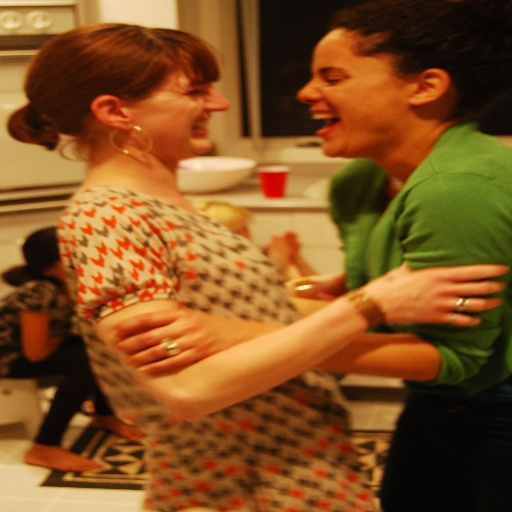hand: (343, 256, 508, 330), (106, 307, 239, 375), (267, 232, 287, 269), (285, 228, 301, 261)
